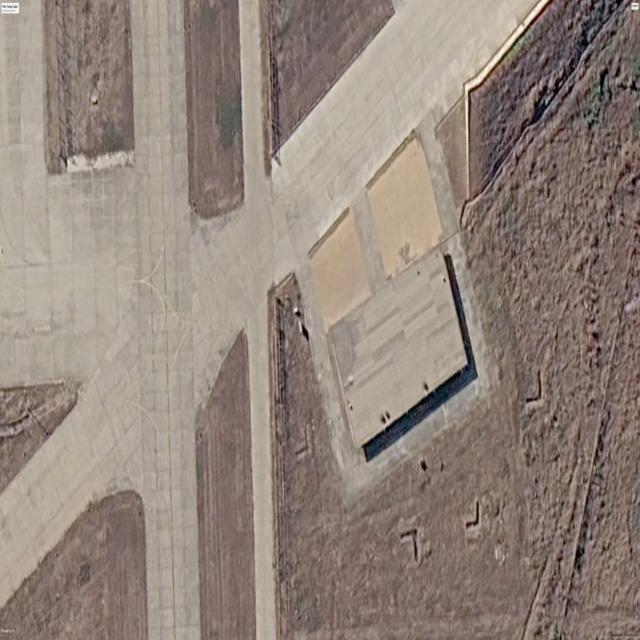Home: (328, 250, 471, 447)
